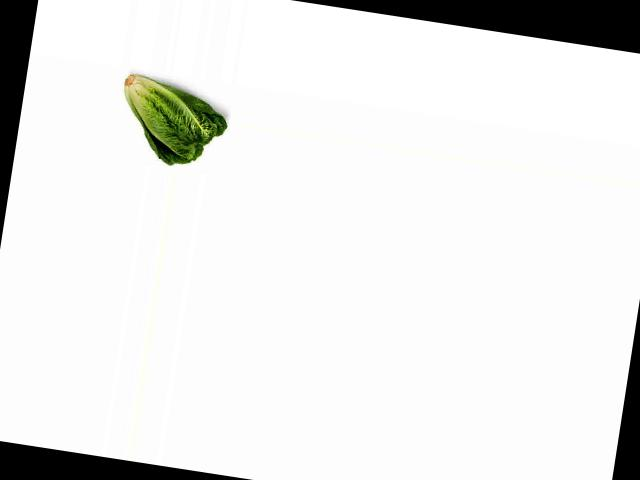lettuce: (106, 69, 232, 171)
